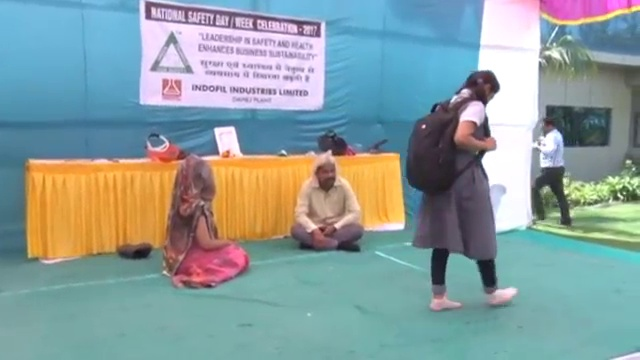helmet_off: (173, 157, 218, 202), (461, 70, 500, 104), (314, 154, 338, 188), (539, 117, 556, 133)
person: (401, 69, 520, 312), (156, 155, 250, 288), (290, 151, 367, 254), (529, 117, 575, 228)
